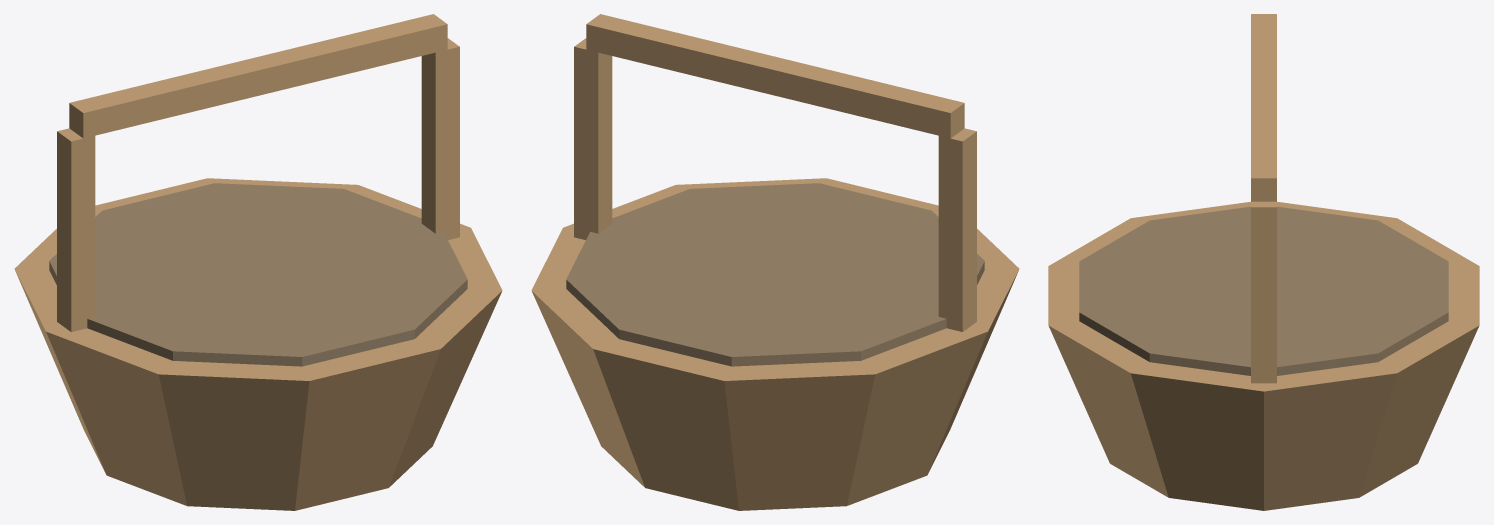
File: cozy-farm-and-homestead-harvest-basket-4ad0195c__19406.glb
3 renders of one model, left to right at view 1: azimuth 30°, elevation 25°; view 2: azimuth 150°, elevation 25°; view 3: azimuth 270°, elevation 25°, orthographic. The views are drawn at different scales.
Parts seen in each view (by area): view 1: harvest-basket; view 2: harvest-basket; view 3: harvest-basket.
Part boxes in pixels (bbox=[...]): harvest-basket: bbox=[14, 14, 502, 510]; harvest-basket: bbox=[531, 14, 1019, 510]; harvest-basket: bbox=[1048, 14, 1479, 510].
Size of the model in its own units: 0.7 by 0.59 by 0.6657.
